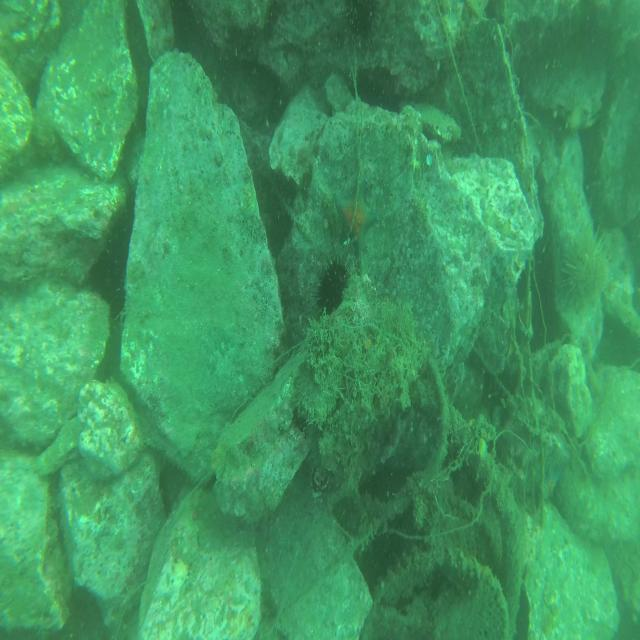echinus: (558, 219, 616, 327), (310, 248, 350, 318), (337, 0, 383, 45)
starfish: (332, 182, 379, 260), (539, 462, 565, 506)
